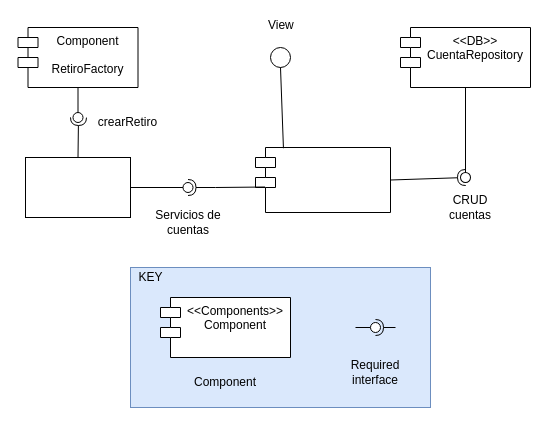
This 548x425 diagram has some shape labels left out. The shapes that lost their labels are listed below. From the top down, each one's centre as x and y in pixels, then its label:
point 77,187: <<Component>> CuentaService
point 322,179: App.java
